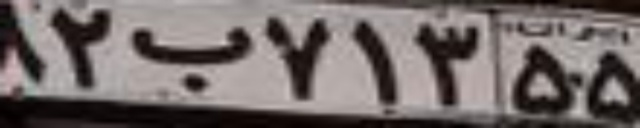1: (351, 19, 397, 103)
2: (51, 5, 114, 89)
3: (415, 23, 481, 105)
5: (511, 44, 574, 114), (583, 50, 639, 121)
7: (262, 14, 330, 101)
8: (0, 2, 44, 81)
be: (129, 22, 255, 91)
